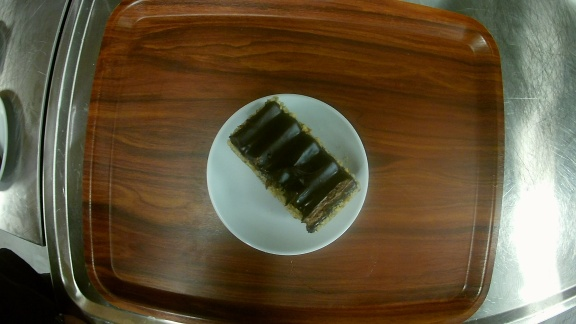muzlupasta: (205, 93, 370, 256)
